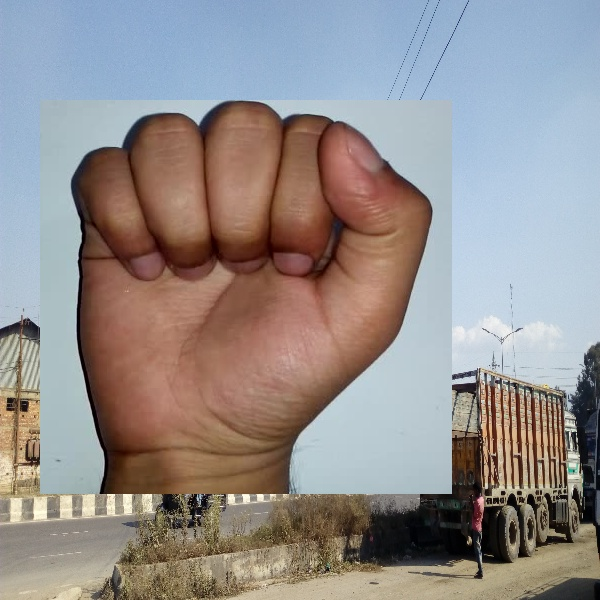A: (40, 100, 452, 494)
